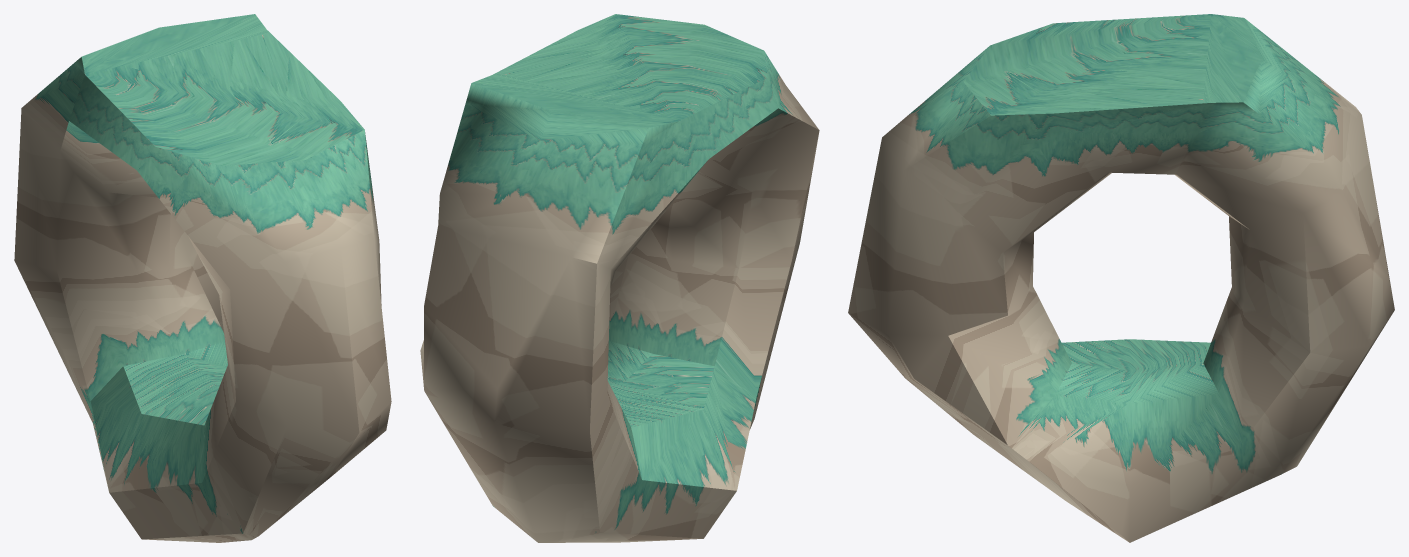
The model's file is Rock_Ring.fbx.
The picture shows the model from 3 angles, left to right: view 1: azimuth 30°, elevation 25°; view 2: azimuth 150°, elevation 25°; view 3: azimuth 270°, elevation 25°; orthographic projection. The views are drawn at different scales.
Parts seen in each view (by area): view 1: pTorus1; view 2: pTorus1; view 3: pTorus1.
Boxes of the visible parts, <box> form: pTorus1: <box>14,14,391,542</box>; pTorus1: <box>420,14,819,542</box>; pTorus1: <box>848,14,1394,542</box>.
Bounding box in the file's own units: 11.39 × 22.59 × 23.77.
